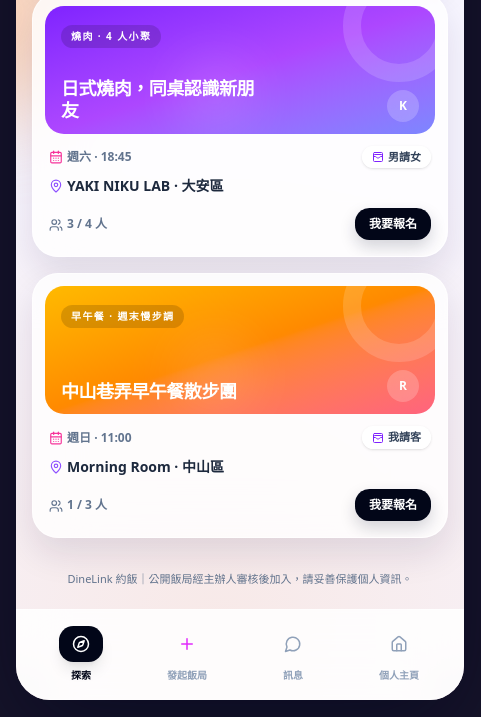
Test: 發起飯局表單 › 個人頁會顯示信用 Rating 趨勢與歷史出席率洞察
(page scrolled)
Click the button "個人主頁" at (399, 655), box x1=346 y1=620 x2=452 y2=689
(page scrolled)
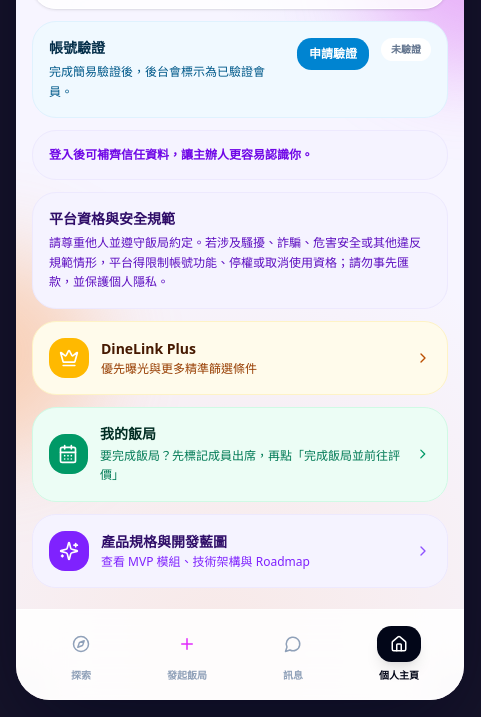
Expected: the button with aria-label "前往我的飯局管理與完成飯局" shows "完成飯局並前往評價", x1=32 y1=406 x2=448 y2=502
